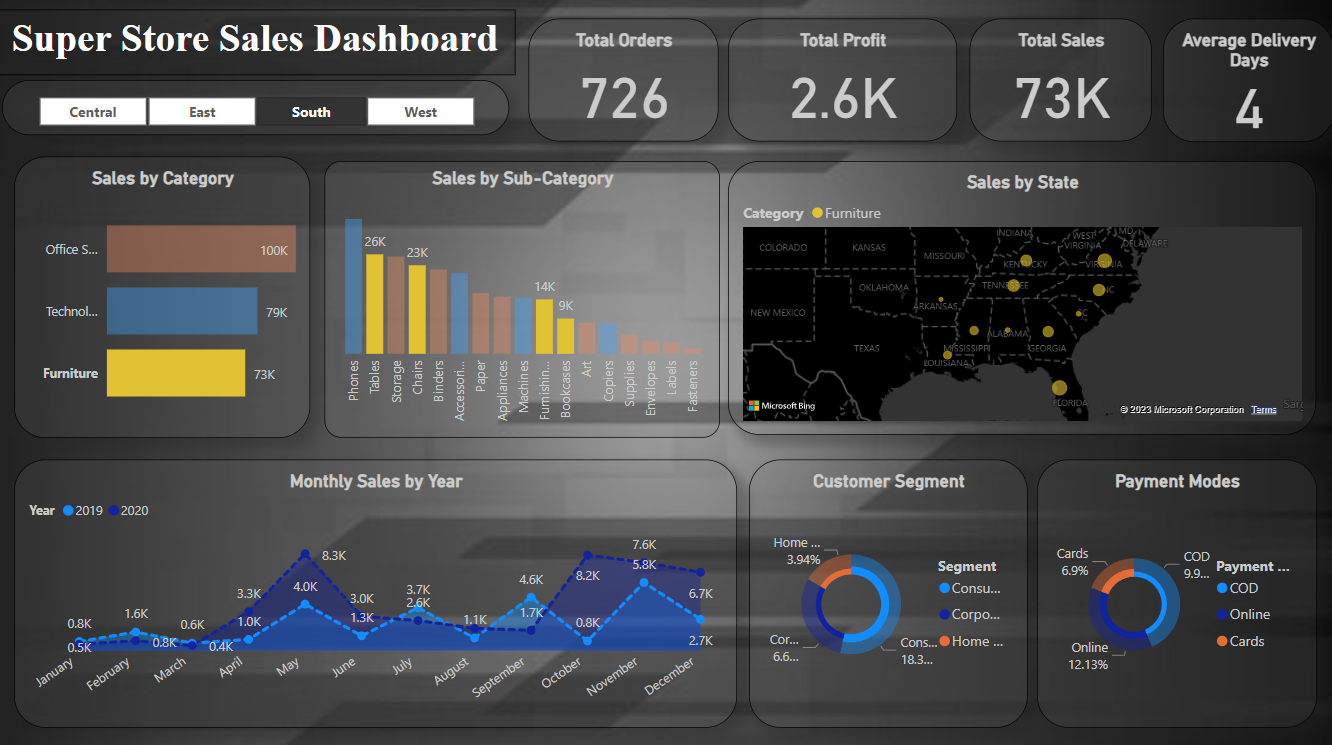

The page's visual inventory and layout, read from the dashboard file:
{"tool":"powerbi","page":{"name":"Dashboard","canvas":[1280,720],"ordinal":0},"visuals":[{"type":"barChart","title":"Sales by Category","fields":{"Category":["SuperStore_Sales_Dataset.Category"],"Y":["Sum(SuperStore_Sales_Dataset.Sales)"]},"box":[20,152.9,282.9,268.6],"z":0},{"type":"columnChart","title":"Sales by Sub-Category","fields":{"Category":["SuperStore_Sales_Dataset.Sub-Category"],"Y":["Sum(SuperStore_Sales_Dataset.Sales)"]},"box":[315.7,157.1,377.1,264.3],"z":1000},{"type":"areaChart","title":"Monthly Sales by Year","fields":{"Category":["SuperStore_Sales_Dataset.Order Date.Variation.Date Hierarchy.Month"],"Series":["SuperStore_Sales_Dataset.Order Date.Variation.Date Hierarchy.Year"],"Y":["Sum(SuperStore_Sales_Dataset.Sales)"]},"box":[20,442.9,690,255.7],"z":2000},{"type":"map","title":"Sales by State","fields":{"Category":["SuperStore_Sales_Dataset.State"],"Size":["Sum(SuperStore_Sales_Dataset.Sales)"],"Series":["SuperStore_Sales_Dataset.Category"]},"box":[701.4,157.1,561.4,261.4],"z":3000},{"type":"donutChart","title":"Customer Segment","fields":{"Category":["SuperStore_Sales_Dataset.Segment"],"Y":["Sum(SuperStore_Sales_Dataset.Sales)"]},"box":[721.4,442.9,265.7,255.7],"z":4000},{"type":"donutChart","title":"Payment Modes","fields":{"Y":["Sum(SuperStore_Sales_Dataset.Sales)"],"Category":["SuperStore_Sales_Dataset.Payment Mode"]},"box":[995.7,442.9,267.1,255.7],"z":5000},{"type":"slicer","fields":{"Values":["SuperStore_Sales_Dataset.Region"]},"box":[8.6,80,484.3,52.9],"z":6000},{"type":"textbox","box":[0,12.9,498.6,62.9],"z":7000},{"type":"card","title":"Total Profit","fields":{"Values":["Sum(SuperStore_Sales_Dataset.Profit)"]},"box":[701.4,21.4,218.6,117.1],"z":8000},{"type":"card","title":"Total Sales","fields":{"Values":["Sum(SuperStore_Sales_Dataset.Sales)"]},"box":[931.4,21.4,174.3,117.1],"z":9000},{"type":"card","title":"Average Delivery Days","fields":{"Values":["Avg(SuperStore_Sales_Dataset.AvgDeliveryDate)"]},"box":[1117.1,21.4,145.7,117.1],"z":10000},{"type":"card","title":"Total Orders","fields":{"Values":["Sum(SuperStore_Sales_Dataset.Quantity)"]},"box":[511.4,21.4,181.4,117.1],"z":10001}]}

Visuals, with their boxes in screenshot pixels (x1, y1, x2, y2), scaled from the page's 1280x720 canvas onto the 1332x745 screenshot:
"Sales by Category" barChart: 21, 158, 315, 436
"Sales by Sub-Category" columnChart: 329, 163, 721, 436
"Monthly Sales by Year" areaChart: 21, 458, 739, 723
"Sales by State" map: 730, 163, 1314, 433
"Customer Segment" donutChart: 751, 458, 1027, 723
"Payment Modes" donutChart: 1036, 458, 1314, 723
slicer - SuperStore_Sales_Dataset.Region: 9, 83, 513, 138
textbox: 0, 13, 519, 78
"Total Profit" card: 730, 22, 957, 143
"Total Sales" card: 969, 22, 1151, 143
"Average Delivery Days" card: 1162, 22, 1314, 143
"Total Orders" card: 532, 22, 721, 143
